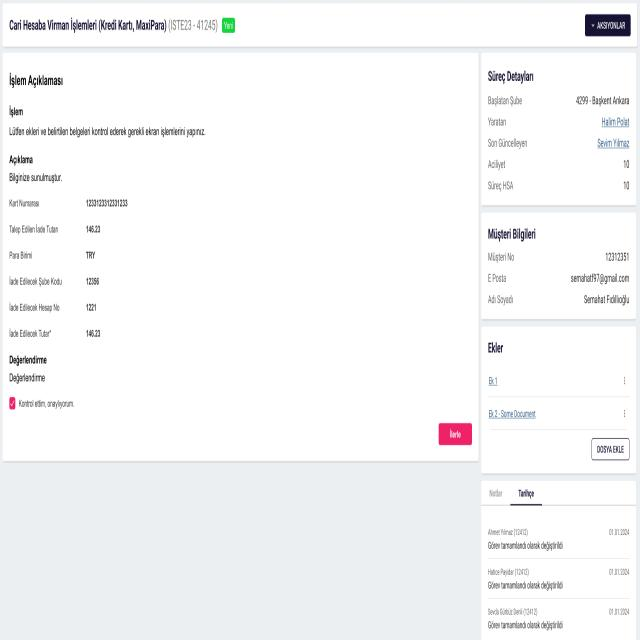QLabel: (9, 16, 167, 35), (9, 125, 206, 139), (8, 71, 63, 90), (168, 17, 218, 35), (487, 619, 566, 630), (488, 579, 566, 590), (571, 272, 630, 286), (575, 92, 630, 107), (487, 226, 537, 242), (487, 540, 565, 550), (8, 171, 62, 185), (487, 407, 537, 422), (8, 223, 59, 236), (487, 70, 534, 84), (8, 274, 62, 286), (584, 293, 630, 307), (8, 300, 60, 312), (8, 352, 48, 367), (487, 136, 527, 150), (8, 327, 54, 338), (8, 372, 46, 385), (596, 137, 630, 151), (85, 197, 128, 208), (488, 94, 524, 107), (487, 608, 538, 616), (487, 567, 530, 576), (601, 116, 630, 129), (488, 528, 528, 537), (605, 249, 630, 263), (9, 198, 40, 209), (8, 153, 34, 166), (486, 180, 514, 192), (487, 293, 514, 305), (487, 251, 515, 262), (596, 444, 625, 454), (596, 21, 626, 30), (8, 250, 34, 260), (487, 272, 510, 283), (486, 158, 506, 170), (608, 526, 631, 536), (487, 341, 503, 355), (487, 115, 507, 126), (8, 105, 24, 118), (608, 566, 631, 575), (608, 606, 630, 615), (85, 328, 102, 339), (518, 489, 534, 499), (487, 375, 499, 388), (86, 224, 101, 234), (449, 429, 462, 440), (488, 489, 503, 498), (86, 277, 99, 286), (85, 302, 96, 312), (86, 249, 96, 260), (223, 21, 234, 30), (622, 159, 630, 170), (623, 180, 630, 191)
VBtn: (584, 12, 632, 38), (591, 436, 630, 462), (438, 422, 473, 446)
VCard: (3, 51, 479, 463), (3, 2, 638, 48), (481, 480, 636, 640), (481, 52, 637, 206), (481, 326, 636, 475), (481, 212, 636, 320)
VCheckbox: (9, 395, 75, 413)
VChip: (222, 17, 235, 34)
VDivider: (487, 556, 631, 562), (487, 394, 630, 399), (487, 596, 630, 601), (489, 427, 628, 432)
VIcon: (623, 407, 626, 419), (591, 22, 595, 29), (624, 375, 626, 388)
VTab: (509, 483, 542, 502), (483, 483, 508, 503)
VTabs: (482, 482, 635, 507)
